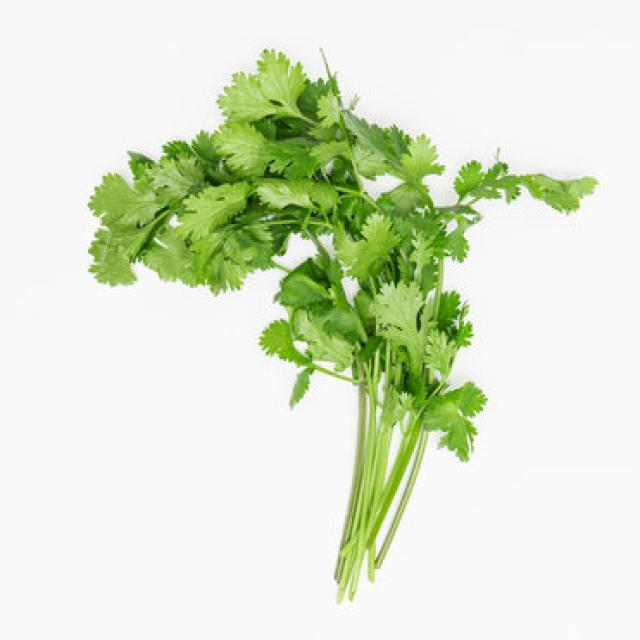Coriander Leaves: (92, 42, 604, 600)
Radish: (362, 278, 474, 572)
